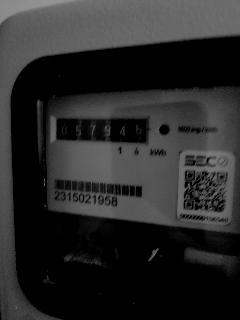1: (62, 125, 67, 135)
5: (120, 125, 126, 137)
6: (77, 126, 82, 137)
7: (136, 123, 142, 135)
8: (91, 125, 96, 136)
:: (105, 126, 111, 137)
